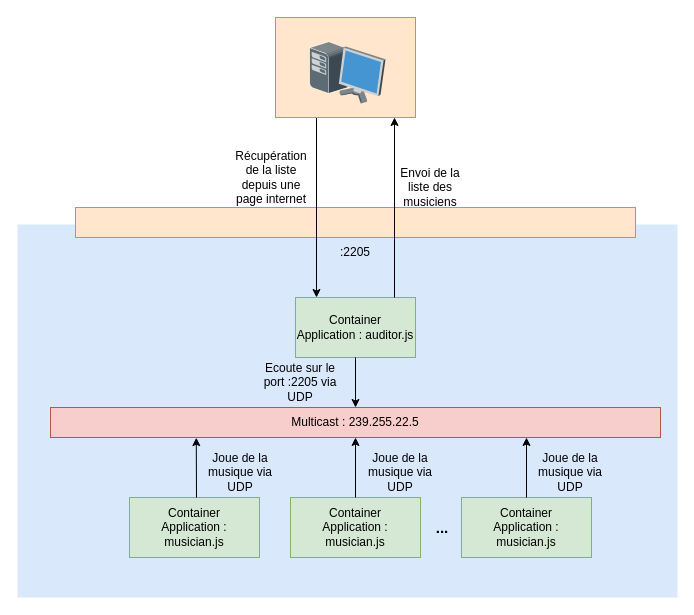
This 694x615 diagram has some shape labels left out. The shapes that lost their labels are listed below. From the top down, each one's box as (x1, y1, x2, y2) in pixels, then its label:
(308, 40, 386, 104): Host
(74, 206, 636, 238): Port mapping
